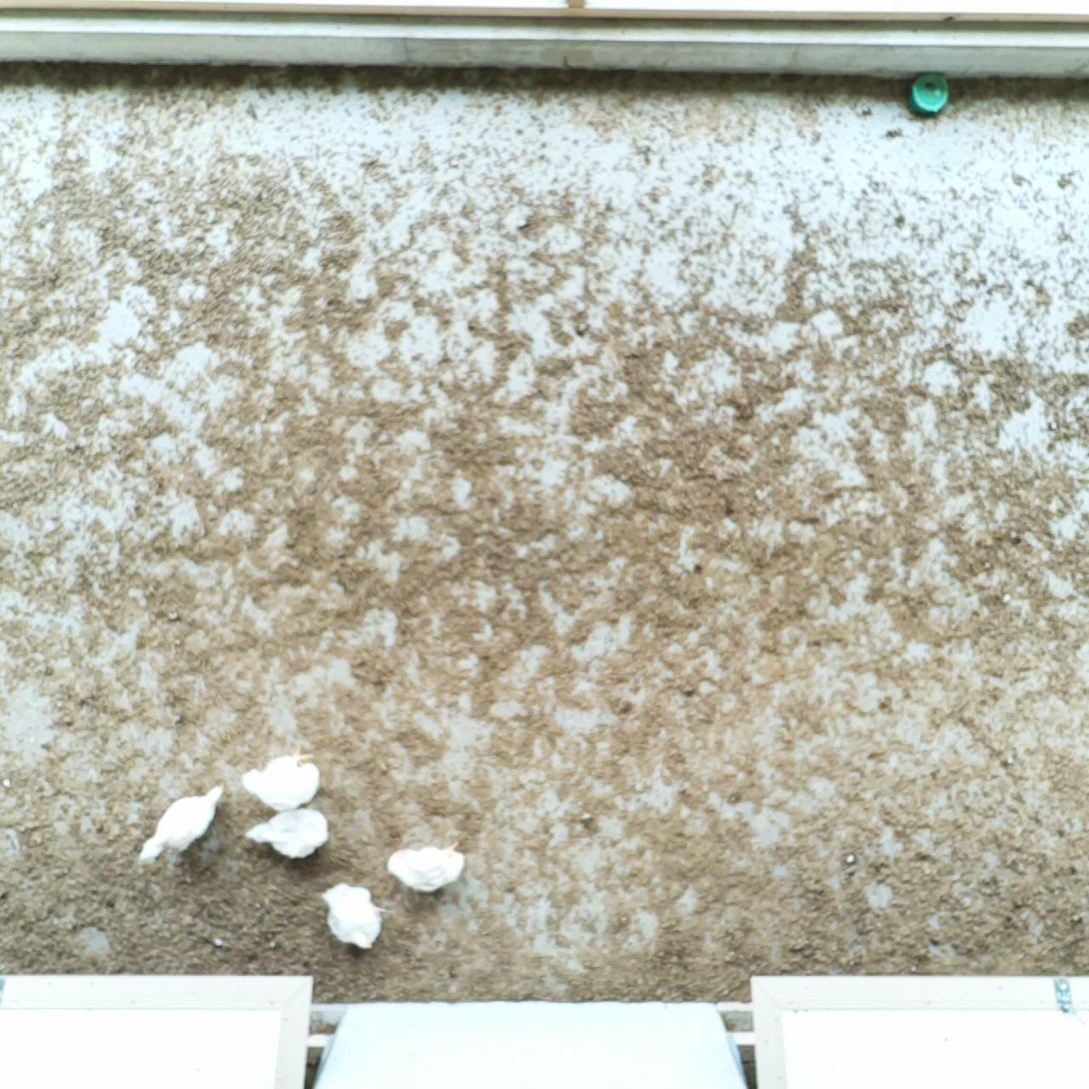chicken: (134, 775, 230, 870), (238, 742, 325, 817), (379, 835, 470, 898), (242, 801, 333, 862), (317, 878, 388, 954)
